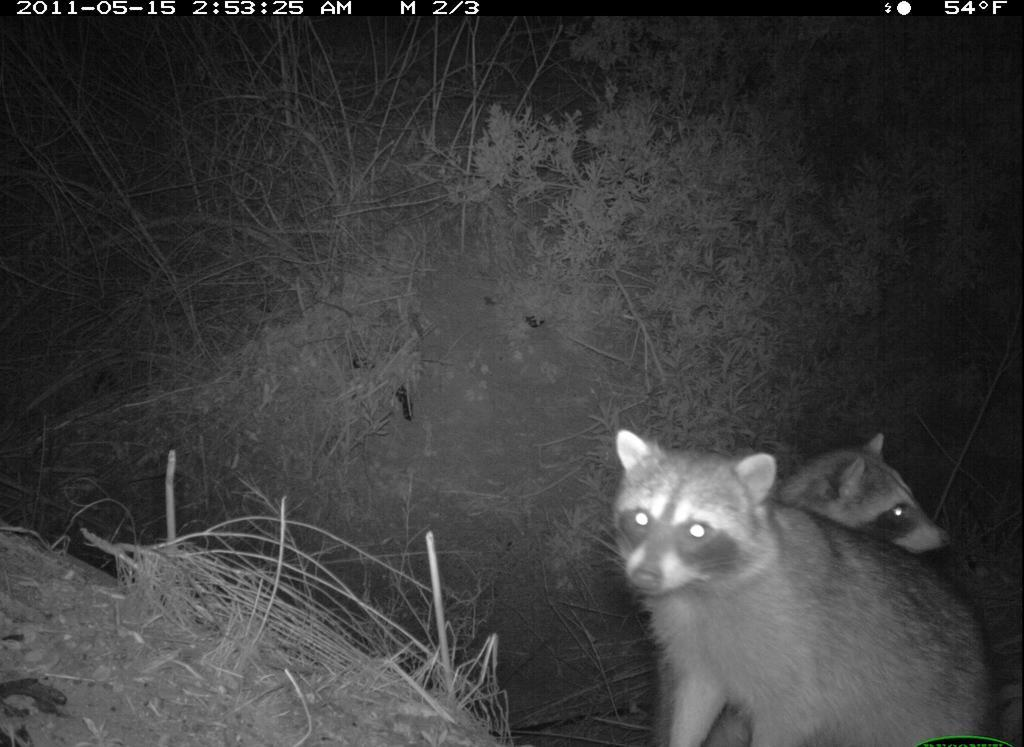raccoon: (596, 418, 1017, 745), (667, 433, 945, 747)
